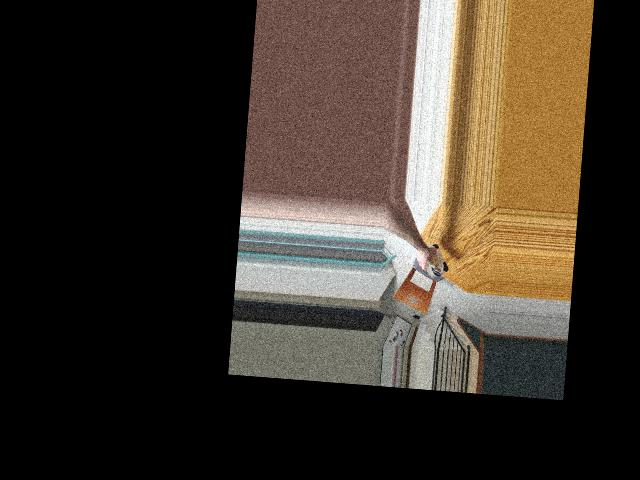cheese: (415, 240, 450, 278)
